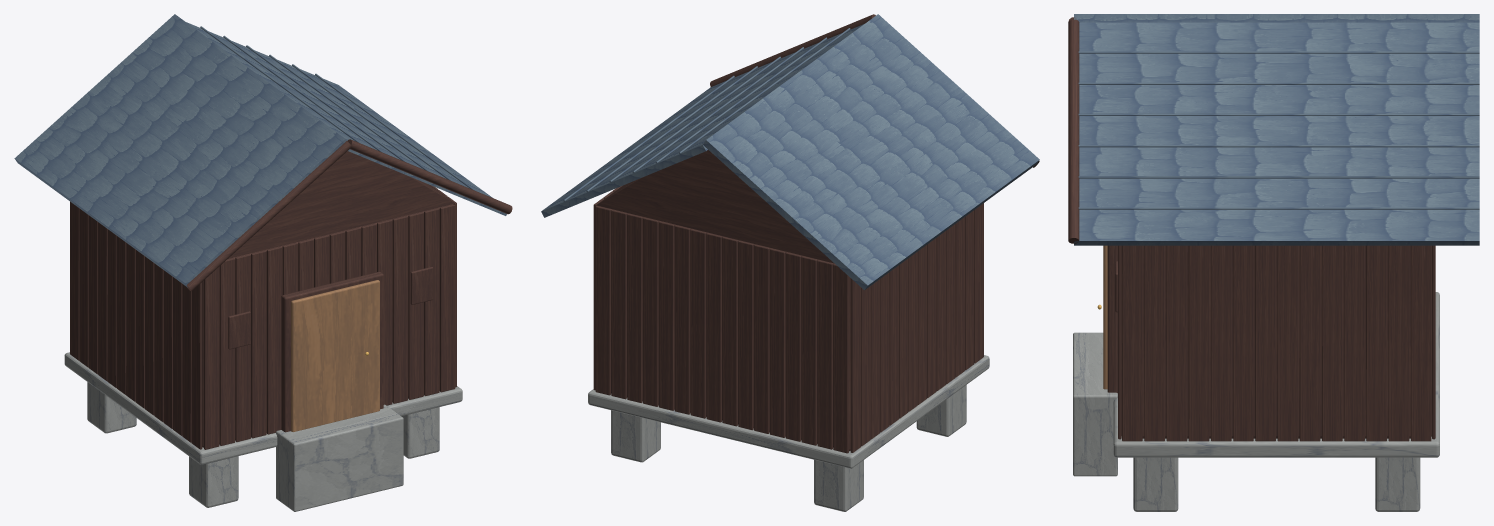
The model's file is barn.glb.
3 views of the same model, side by side, from view 1: azimuth 30°, elevation 25°; view 2: azimuth 150°, elevation 25°; view 3: azimuth 270°, elevation 25° (orthographic). The views are drawn at different scales.
Parts seen in each view (by area): view 1: barn; view 2: barn; view 3: barn.
Part boxes in pixels (x1=…): barn: x1=14, y1=14, x2=512, y2=511; barn: x1=541, y1=14, x2=1039, y2=511; barn: x1=1068, y1=14, x2=1479, y2=511.
Size of the model in its own units: 5.19 by 5.48 by 4.76.
2 materials, 2 textured.
